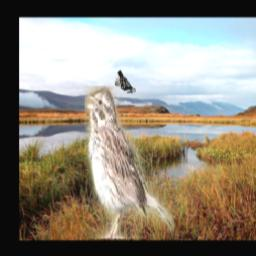Sparrow: (84, 87, 173, 239)
Woodpecker: (115, 71, 137, 94)
